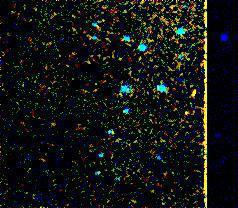star: (176, 76, 206, 106)
